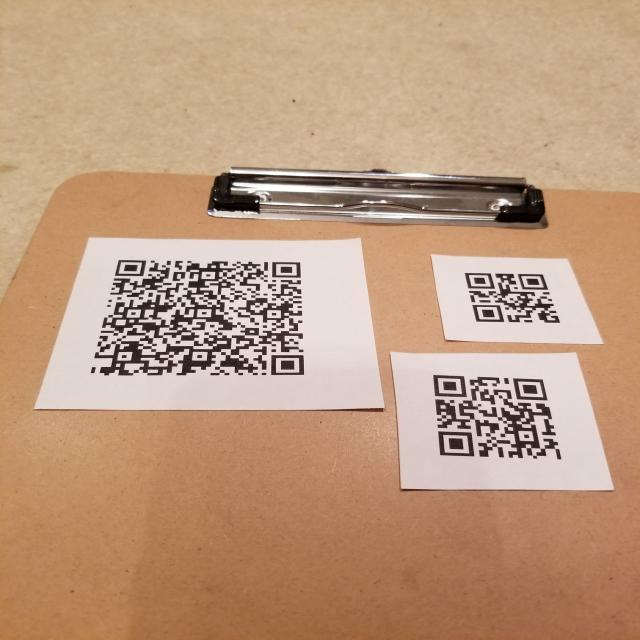QR_CODE: (84, 244, 314, 385), (418, 365, 576, 469), (451, 259, 574, 336)
